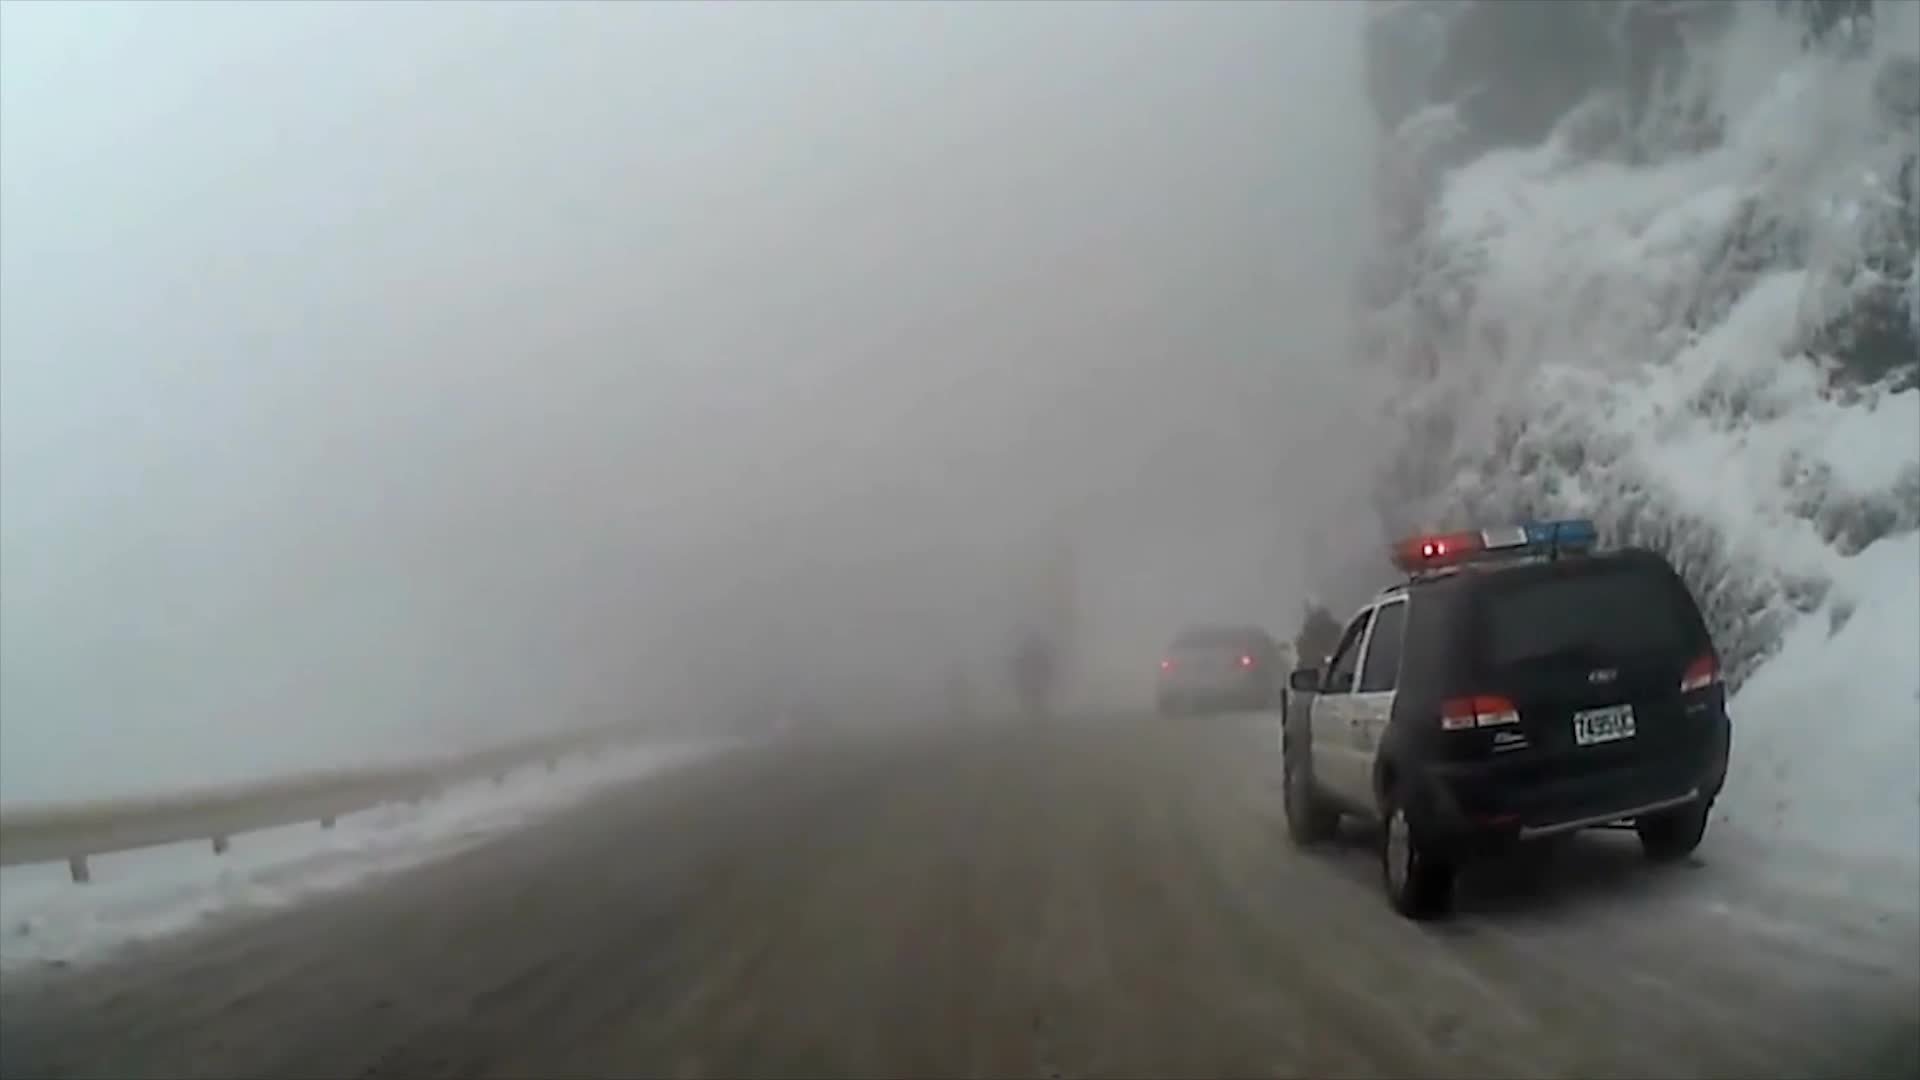pedestrian: (1295, 597, 1348, 739)
vehicle: (1276, 520, 1731, 919), (1157, 622, 1290, 717)
